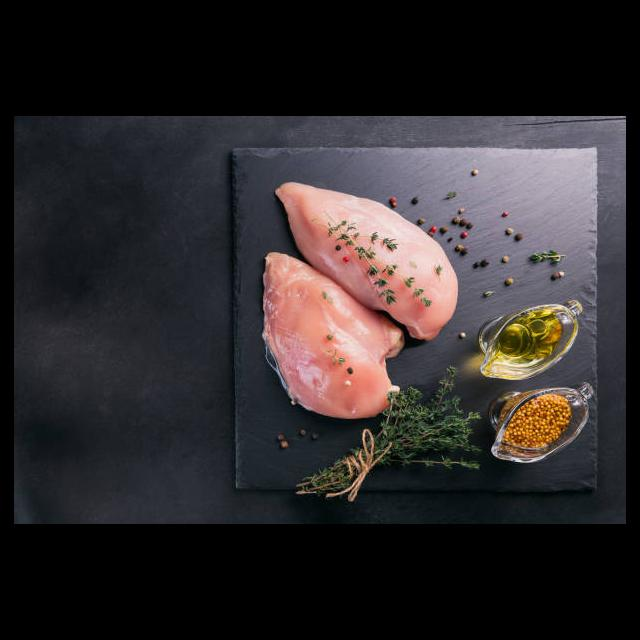chicken: (275, 179, 460, 337), (263, 249, 404, 419)
